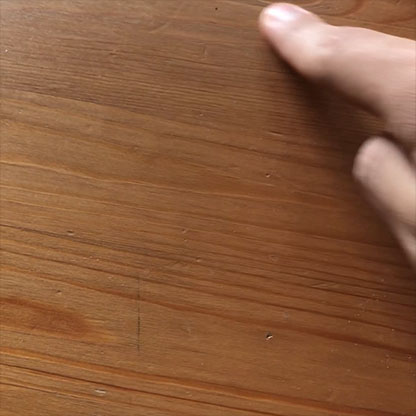fingertip: (248, 1, 320, 40)
